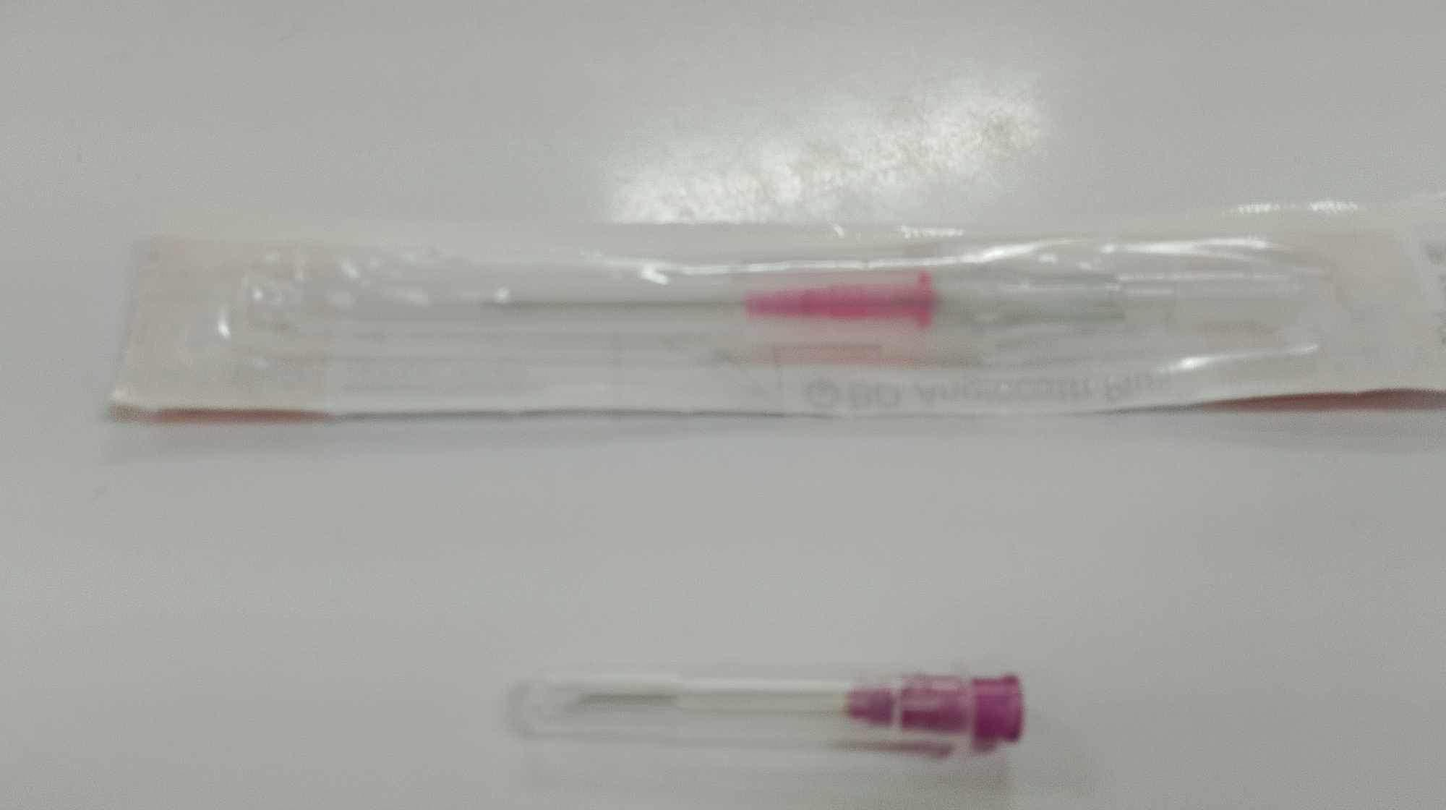General: (839, 669, 1027, 747)
Infectious: (107, 191, 1442, 423)
Sharps: (506, 667, 1027, 752)
